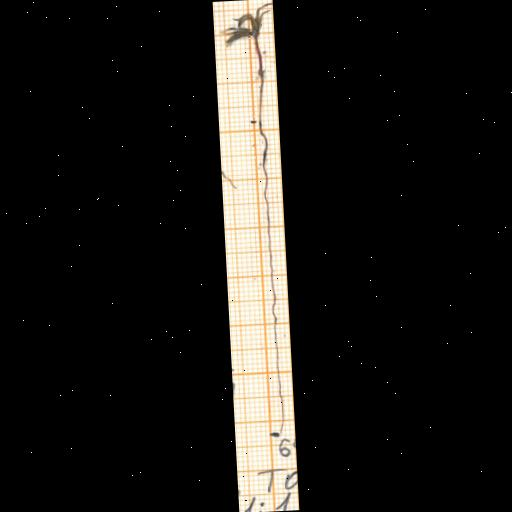flowerPinus: (225, 6, 266, 46)
rootPinus: (258, 123, 278, 328)
stemPinus: (256, 38, 263, 123)
